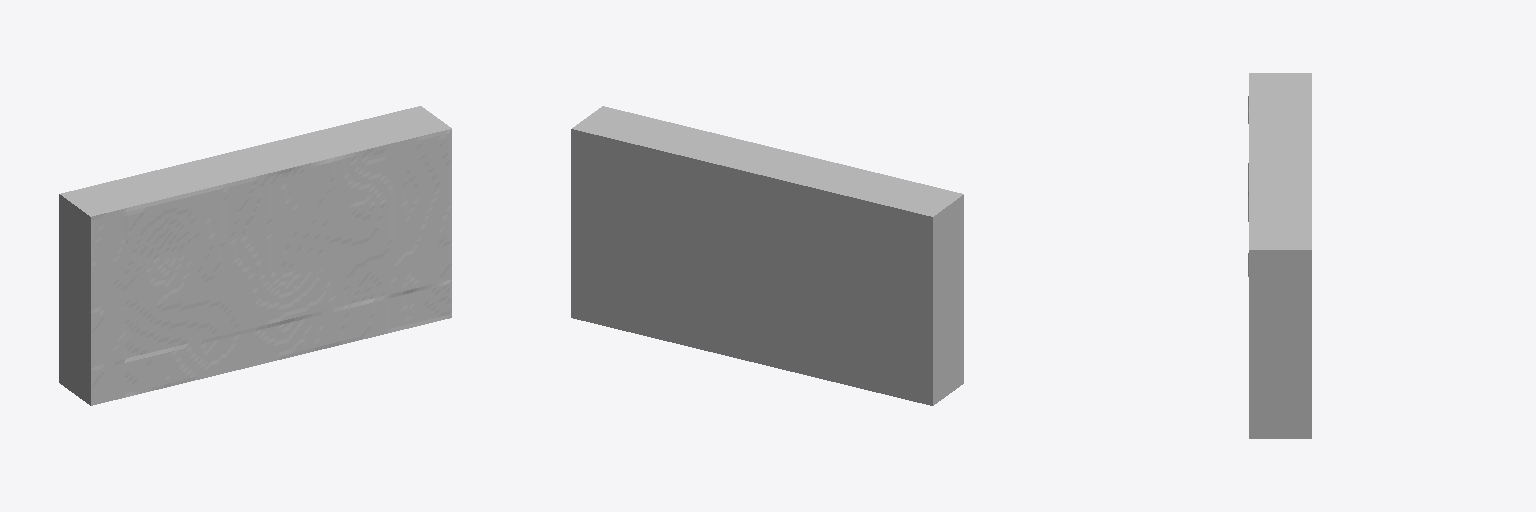
The model's file is rectangular_prism_bumps_8_4.obj.
The picture shows the model from 3 angles: view 1: azimuth 30°, elevation 25°; view 2: azimuth 150°, elevation 25°; view 3: azimuth 270°, elevation 25°; orthographic projection.
Bounding box in the file's own units: 10 × 5 × 1.51.